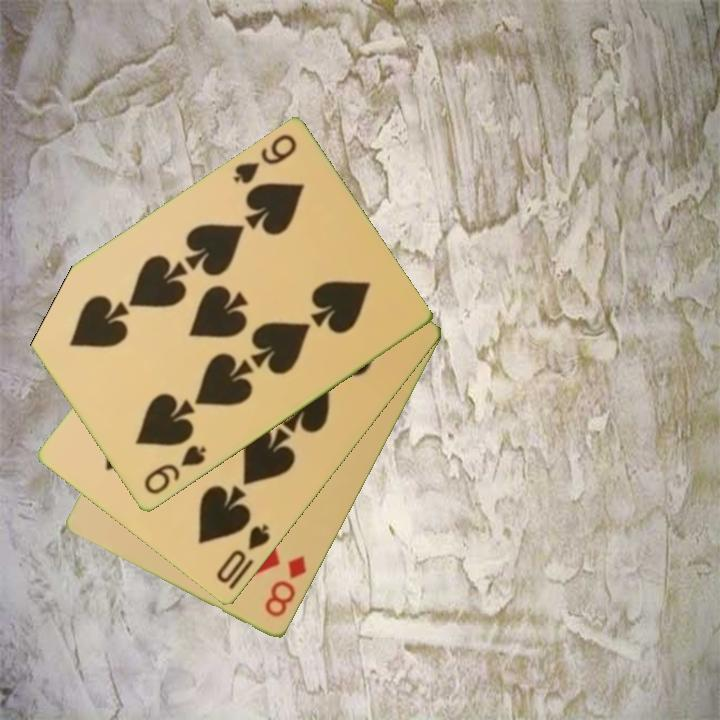10s: (212, 521, 274, 587)
8d: (261, 552, 310, 621)
9s: (229, 131, 300, 188), (140, 442, 210, 499)
